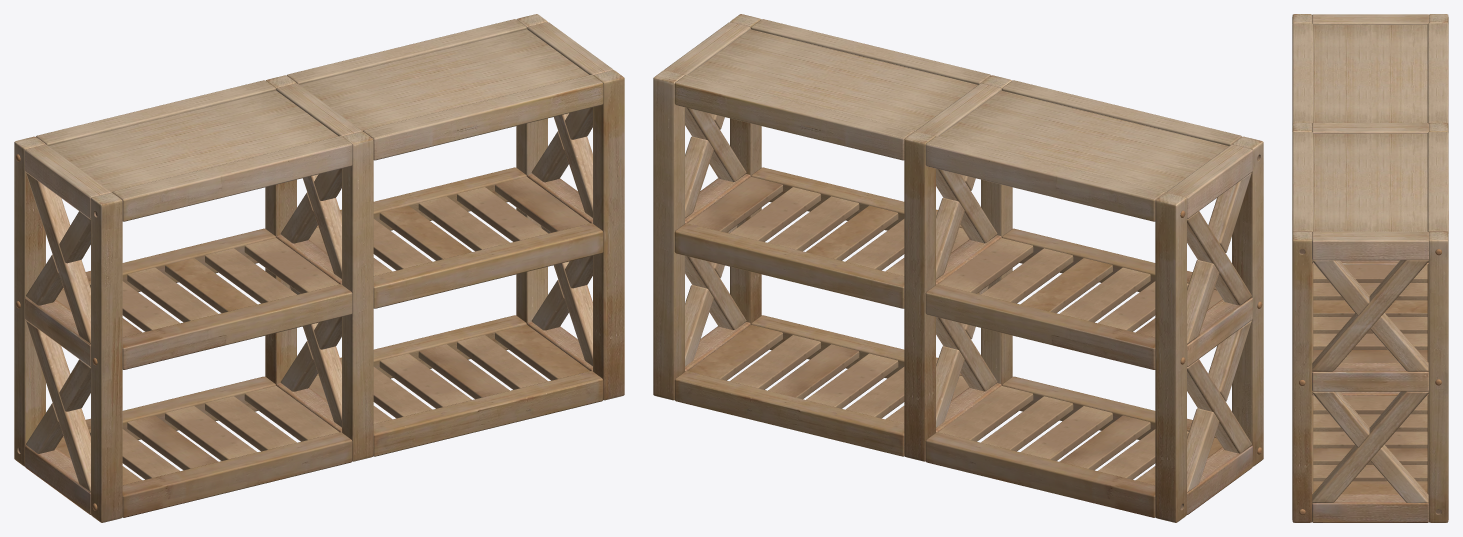
Rendered from abo-B084L8195R.glb.
The picture shows the model from 3 angles, left to right: view 1: azimuth 30°, elevation 25°; view 2: azimuth 150°, elevation 25°; view 3: azimuth 270°, elevation 25°; orthographic projection. The views are drawn at different scales.
Bounding box in the file's own units: 1.32 × 0.762 × 0.381.
Materials: 1 (1 with a texture image).
